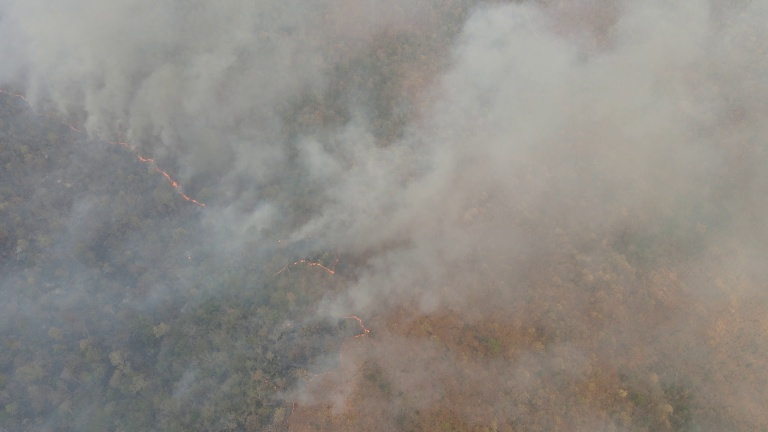fire: (1, 83, 130, 147), (134, 143, 213, 212), (267, 364, 335, 430), (264, 232, 343, 284), (328, 309, 379, 358)
smoke: (343, 5, 747, 293), (16, 1, 316, 120)
